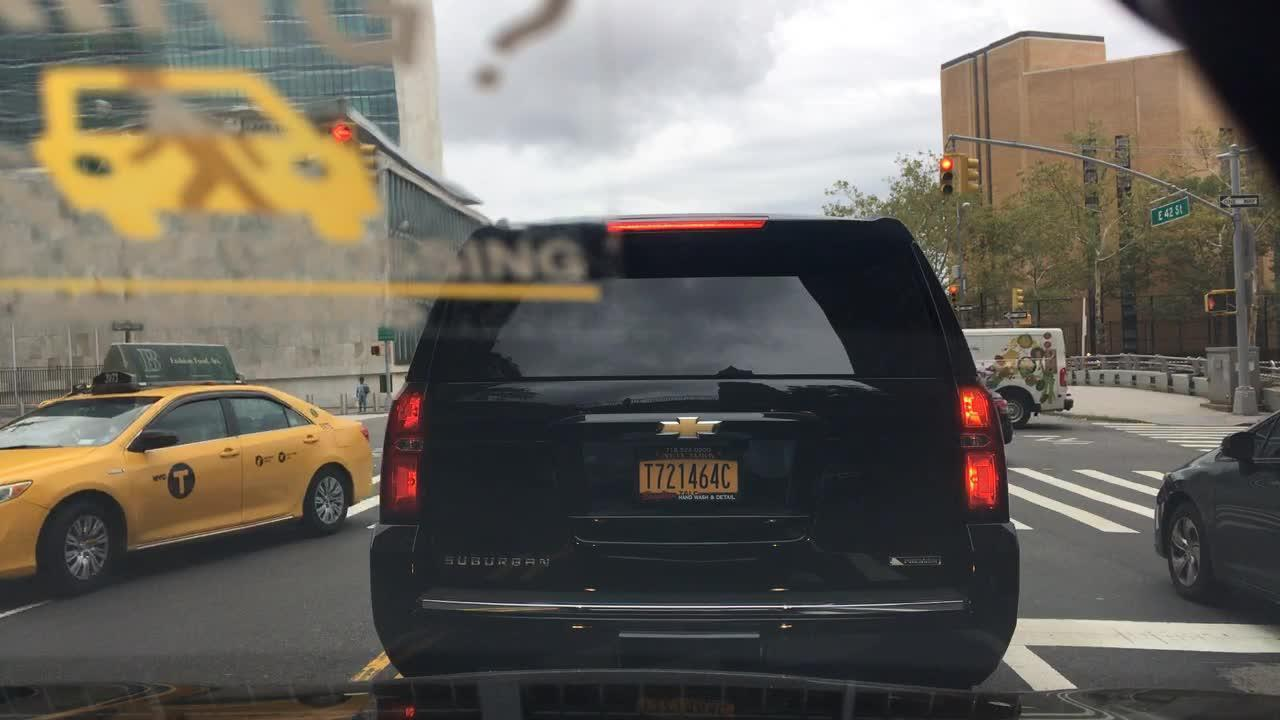chevrolet: (638, 395, 740, 453)
